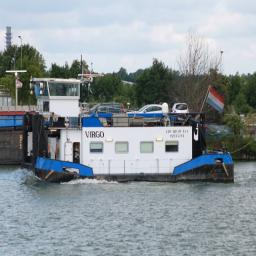tugboat: (21, 73, 238, 197)
